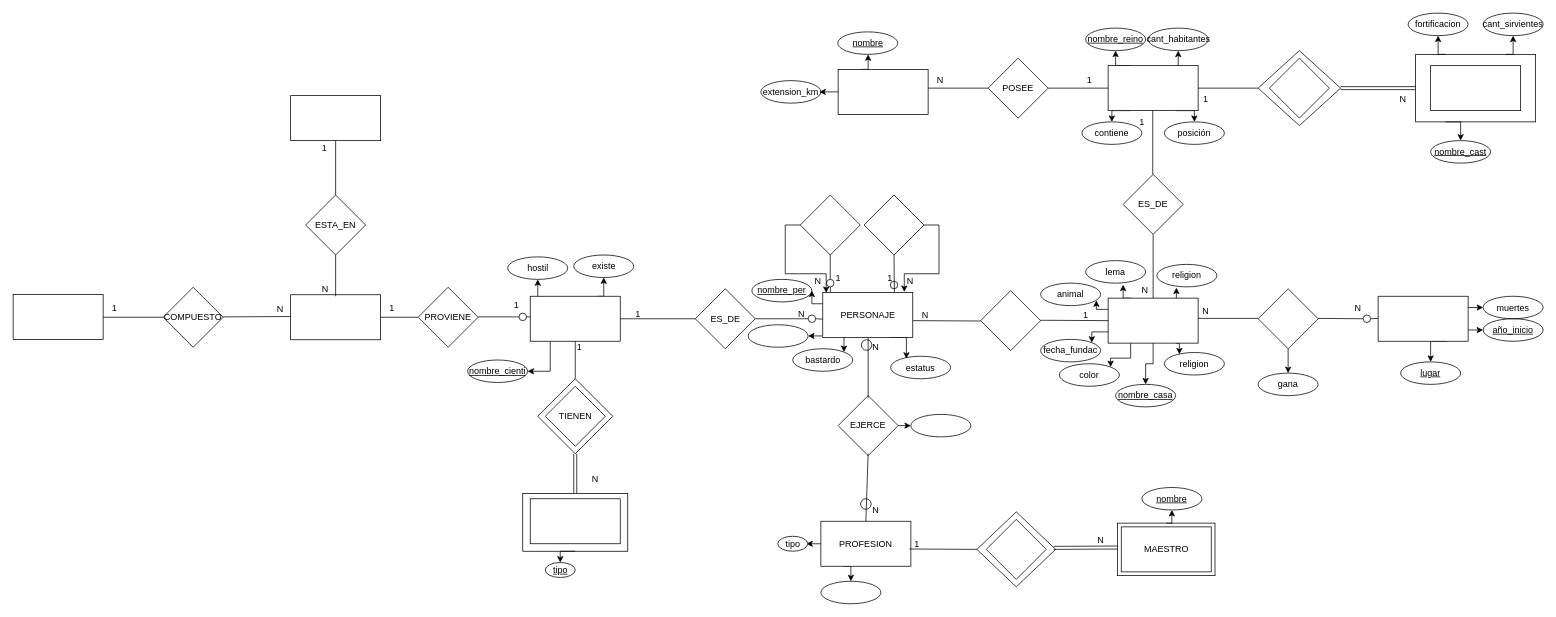
The diagram is 1556 pixels wide and 617 high, and some of its shapes have lost their labels. Each missing label, with the centre of its shape:
año_naci: point 777,335
CASA: point 1152,320
CASTILLO: point 1475,88
CIUDAD: point 882,91
ENSEÑA: point 1016,549
ES_MADRE: point 830,224
ES_PADRE: point 893,224
ESPECIE: point 575,318
fecha_ini: point 940,425
GALAXIA: point 335,118
GUERRA: point 1422,318
HABILIDAD: point 575,521
nombre_prof: point 850,592
PARTICIPA: point 1287,318
PERTENECE: point 1010,320
PLANETA: point 335,317
REINO: point 1152,88
REINO_INTERESTE: point 57,316
TIENE: point 1299,87
